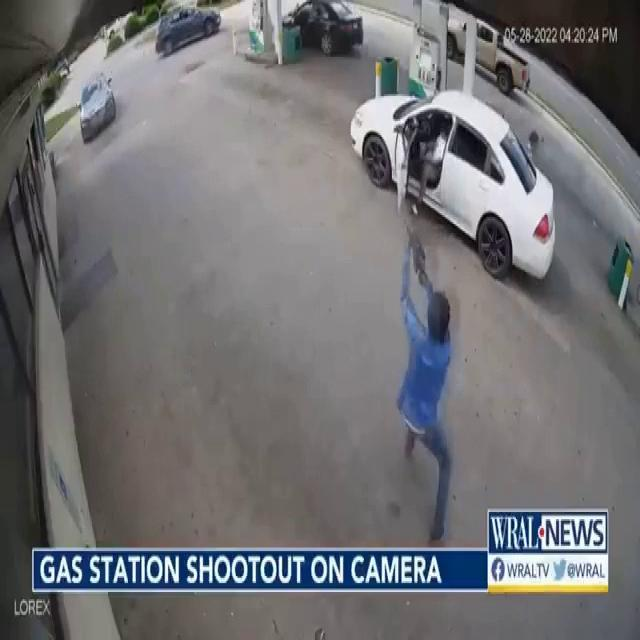penembakan: (392, 222, 459, 546)
